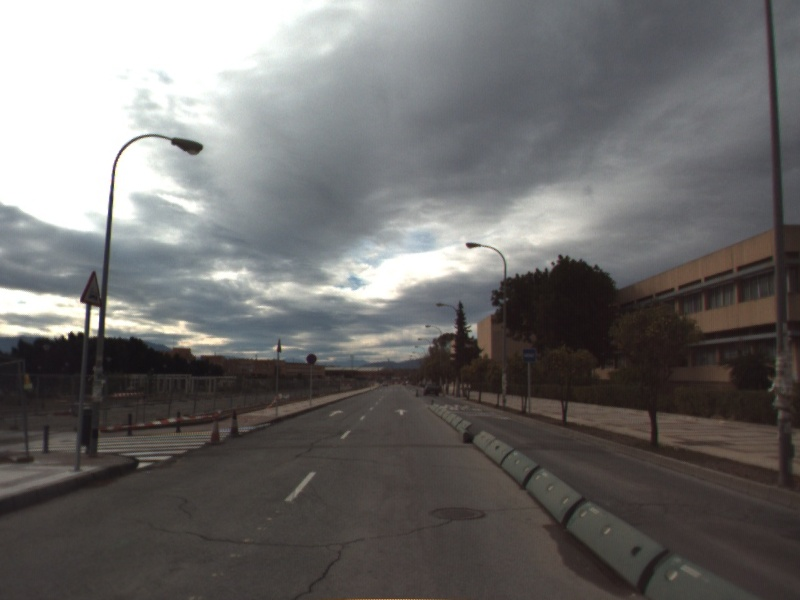STRAIGHT: (326, 407, 346, 419), (392, 406, 410, 417)
